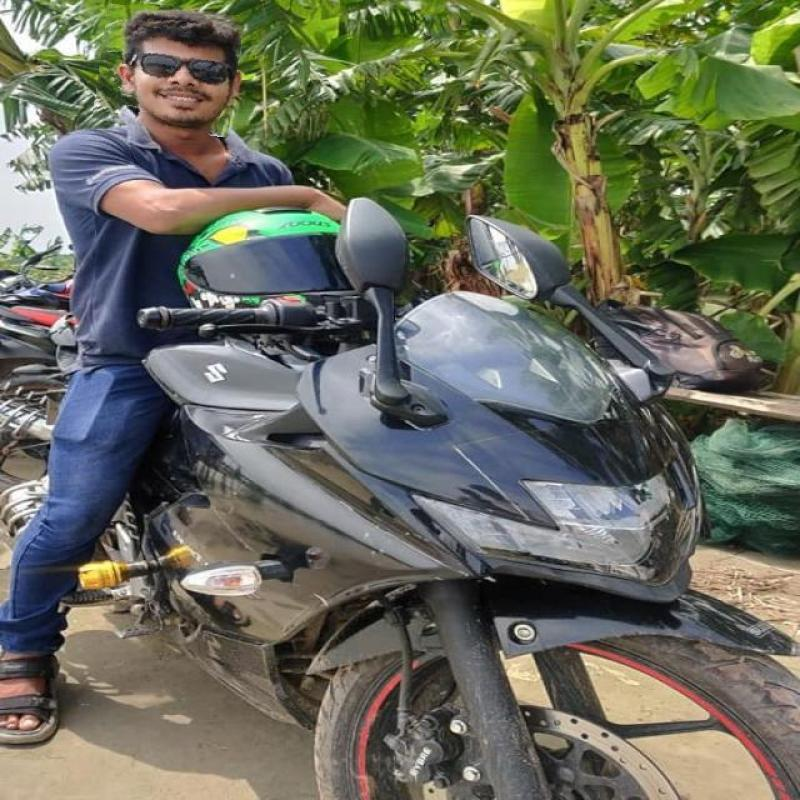nohelmet: (96, 7, 240, 134)
